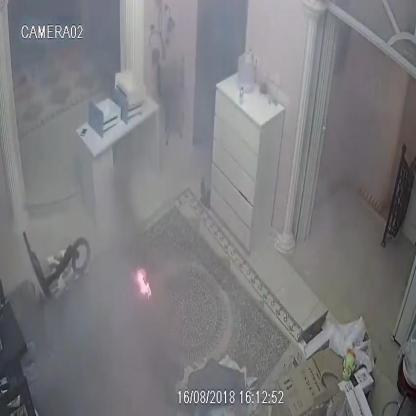fire: (137, 270, 151, 298)
